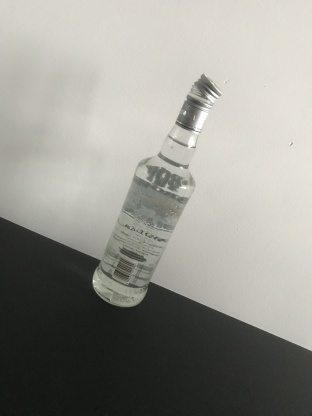nakretka: (173, 71, 223, 136)
